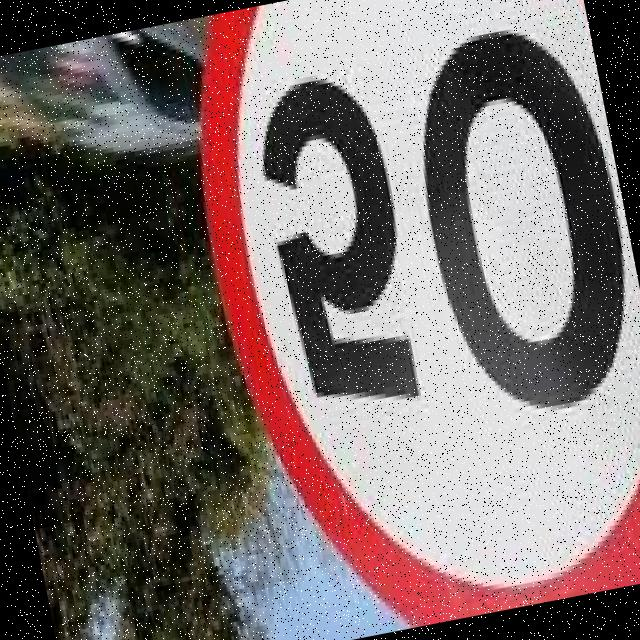speed_limit_50: (161, 0, 640, 640)
